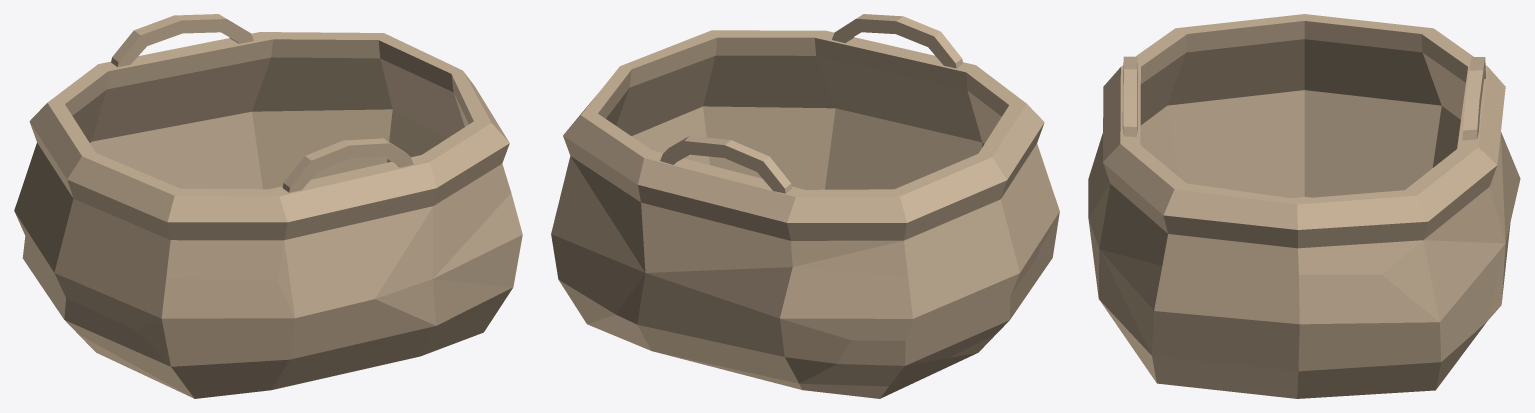
Rendered from SM_Prop_Sack_04.glb.
3 views of the same model, side by side, from view 1: azimuth 30°, elevation 25°; view 2: azimuth 150°, elevation 25°; view 3: azimuth 270°, elevation 25° (orthographic).
Visible parts, largest first — view 1: SM_Prop_Sack_04; view 2: SM_Prop_Sack_04; view 3: SM_Prop_Sack_04.
Boxes of the visible parts, left/top/right/bottom form: SM_Prop_Sack_04: left=14, top=14, right=522, bottom=398; SM_Prop_Sack_04: left=551, top=14, right=1059, bottom=398; SM_Prop_Sack_04: left=1088, top=14, right=1520, bottom=398.
Bounding box in the file's own units: 0.787 × 0.4192 × 0.6838.
Materials: 1 (1 with a texture image).
